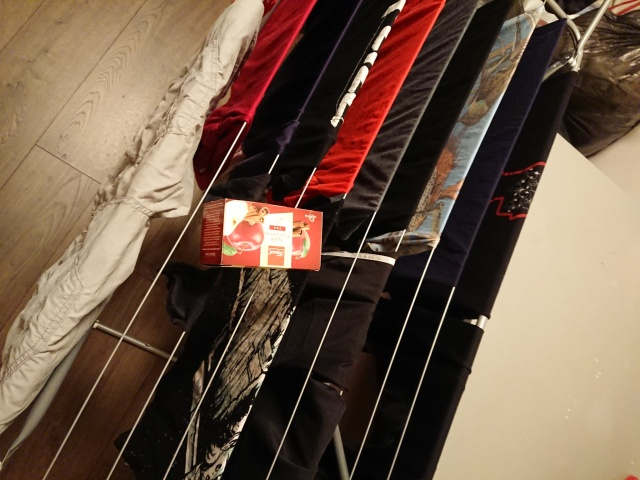Franck Apple Cinnamon Tea 60g: (196, 195, 326, 274)
